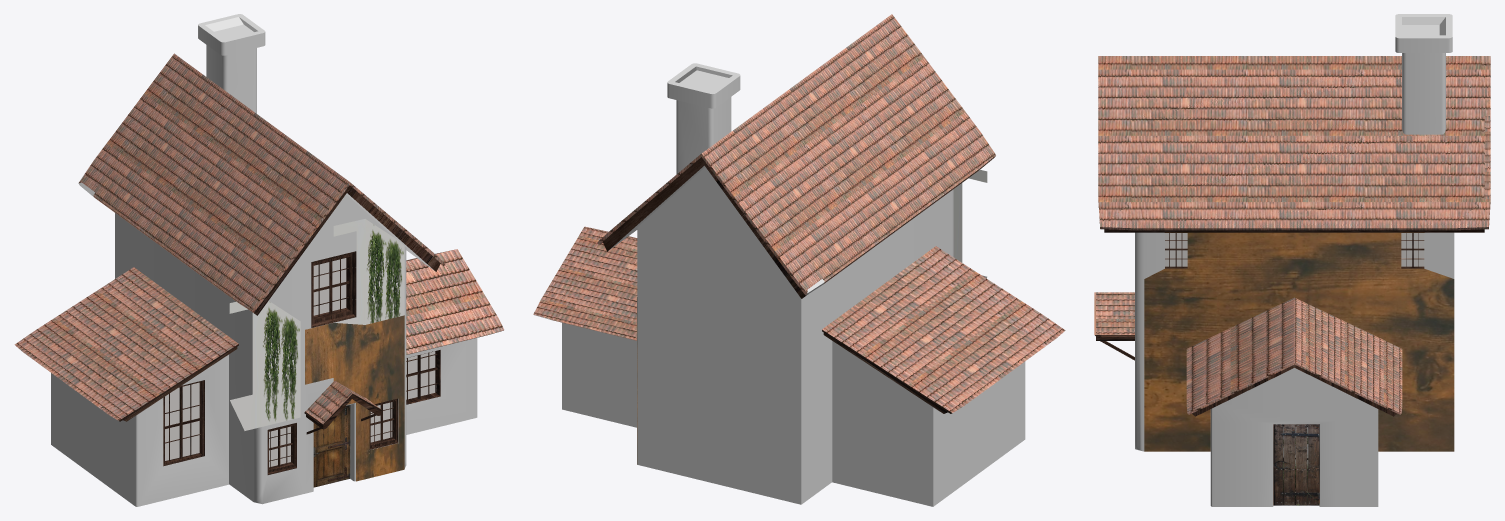
Rendered from House2.fbx.
3 renders of one model, left to right at view 1: azimuth 30°, elevation 25°; view 2: azimuth 150°, elevation 25°; view 3: azimuth 270°, elevation 25°, orthographic. The views are drawn at different scales.
Parts seen in each view (by area): view 1: Cube.002; view 2: Cube.002; view 3: Cube.002.
Part boxes in pixels (bbox=[...]): Cube.002: bbox=[14, 14, 504, 506]; Cube.002: bbox=[533, 14, 1065, 506]; Cube.002: bbox=[1094, 14, 1490, 506].
Size of the model in its own units: 3287 by 2866 by 2576.
8 materials, 6 textured.
